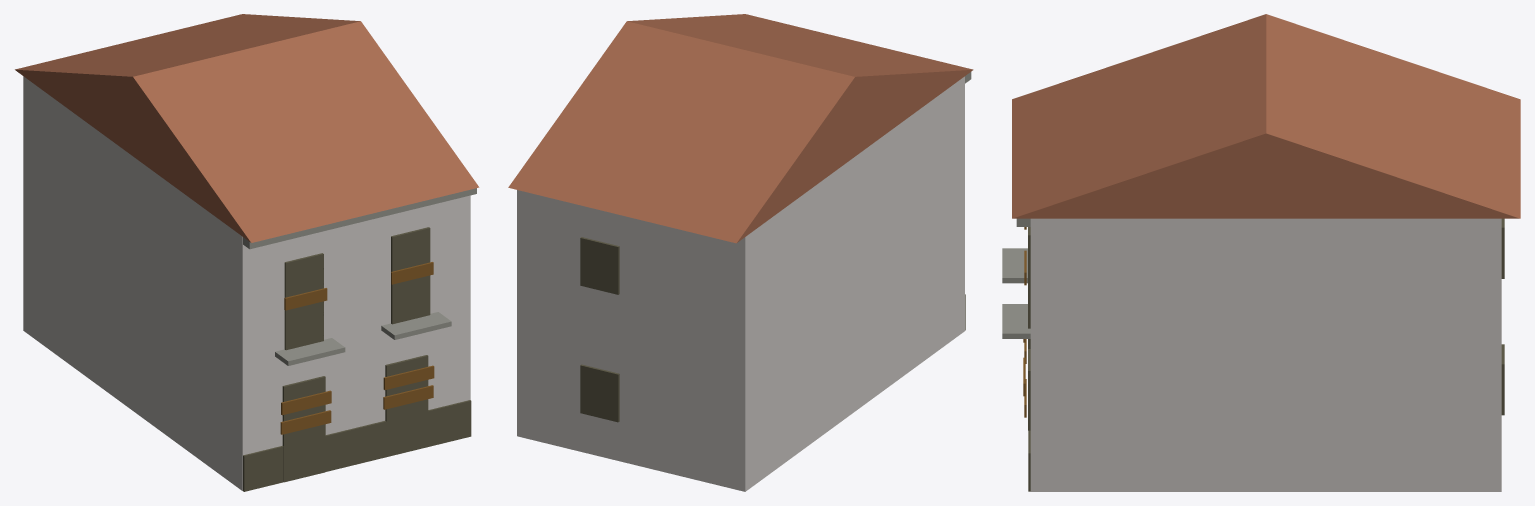
The model's file is SM_casa_pueblo_v4_LOD1.fbx.
3 renders of one model, left to right at view 1: azimuth 30°, elevation 25°; view 2: azimuth 150°, elevation 25°; view 3: azimuth 270°, elevation 25°, orthographic. The views are drawn at different scales.
Visible parts, largest first — view 1: SM_casa_pueblo_v4_LOD1; view 2: SM_casa_pueblo_v4_LOD1; view 3: SM_casa_pueblo_v4_LOD1.
Part boxes in pixels (x1,y1,x2,y2): SM_casa_pueblo_v4_LOD1: [15, 14, 479, 491]; SM_casa_pueblo_v4_LOD1: [508, 14, 973, 491]; SM_casa_pueblo_v4_LOD1: [1002, 14, 1520, 491].
Size of the model in its own units: 6 by 8.4 by 11.
